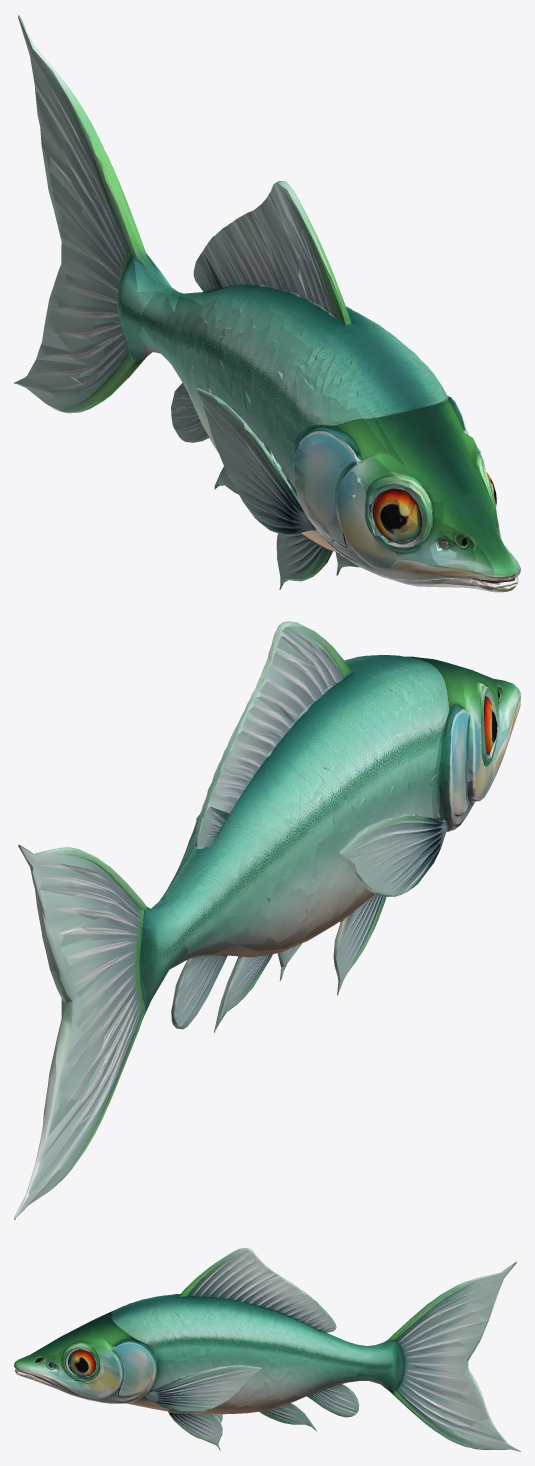
File: xiyu.glb
3 renders of one model, top to bottom at view 1: azimuth 30°, elevation 25°; view 2: azimuth 150°, elevation 25°; view 3: azimuth 270°, elevation 25°, orthographic. The views are drawn at different scales.
Bounding box in the file's own units: 0.3507 × 0.8416 × 1.9.
1 material, 1 textured.
